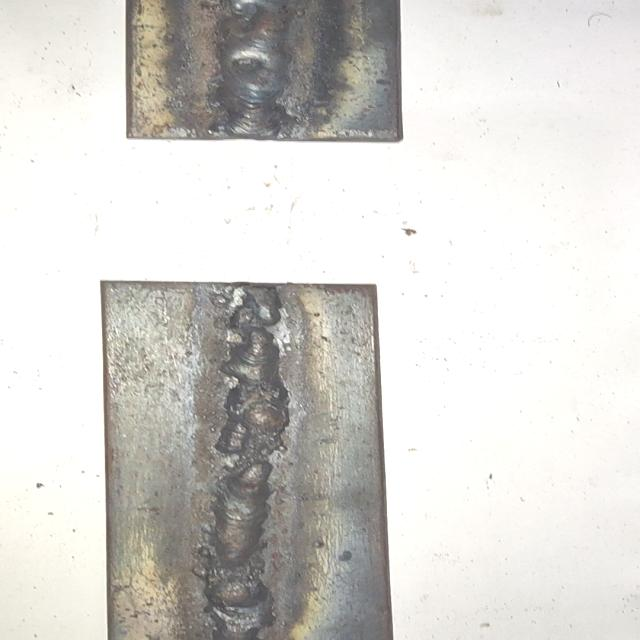Bad Weld: (198, 286, 286, 640), (223, 0, 283, 135)
Defect: (190, 544, 283, 640), (202, 419, 307, 501), (210, 288, 294, 381), (208, 0, 292, 54)
